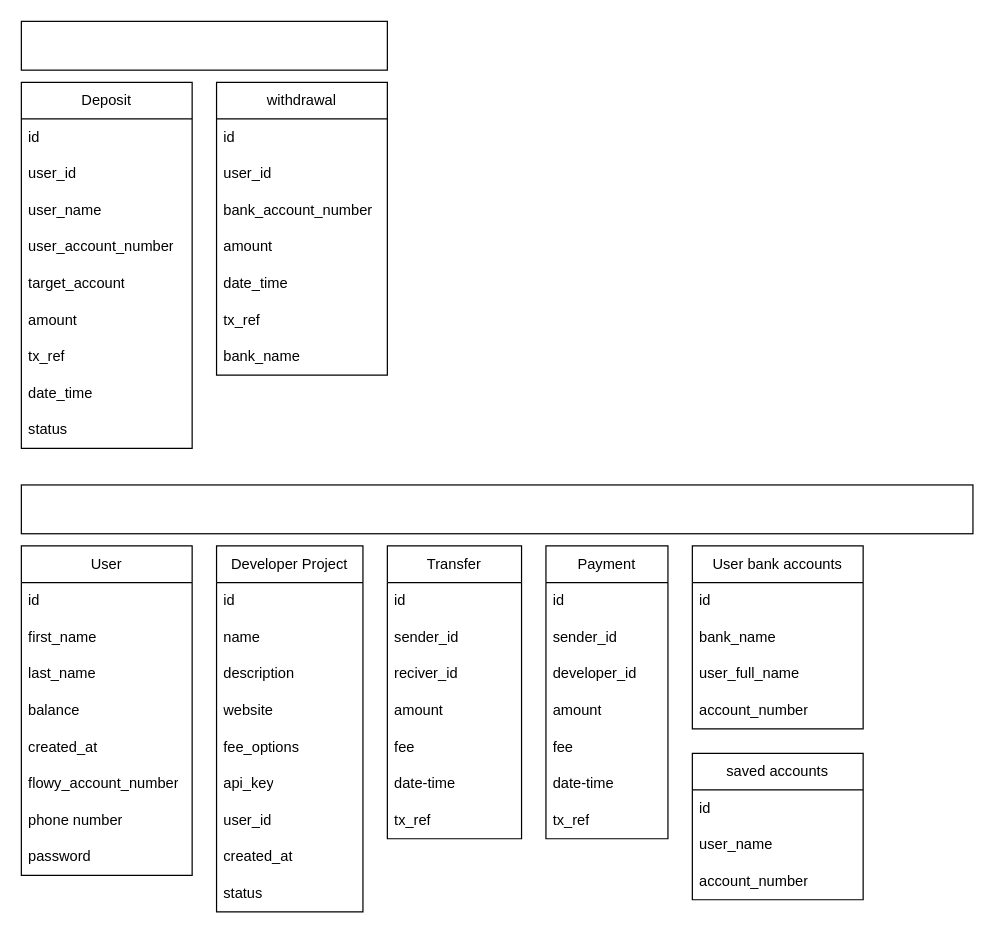
Image size: 994x933. Some labels were removed from this diagram. The centre of each missing label's shape, as x and y in pixels:
"Bank Side" belongs at (203,45).
"flowy" belongs at (496,509).
